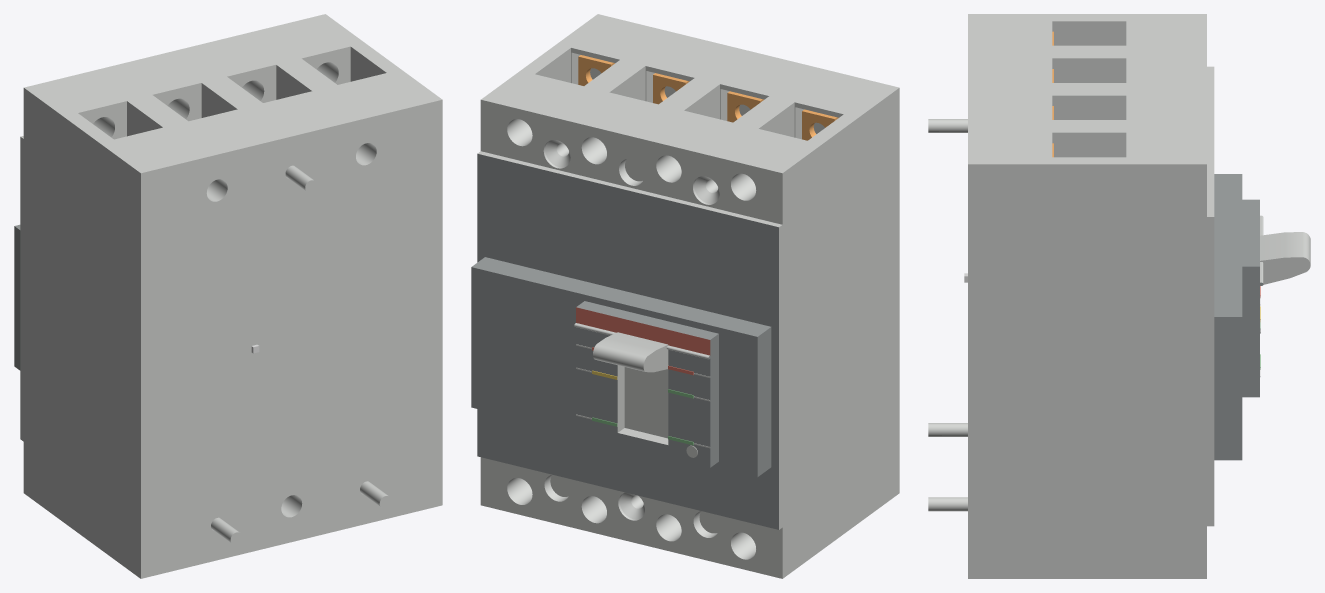
3 views of the same model, side by side, from view 1: azimuth 30°, elevation 25°; view 2: azimuth 150°, elevation 25°; view 3: azimuth 270°, elevation 25° (orthographic). The views are drawn at different scales.
Visible parts, largest first — view 1: Body1; view 2: Body1; view 3: Body1.
Part boxes in pixels (x1=…): Body1: x1=14, y1=14, x2=442, y2=578; Body1: x1=471, y1=14, x2=899, y2=578; Body1: x1=928, y1=14, x2=1310, y2=578.
Bounding box in the file's own units: 101 × 130 × 109.
